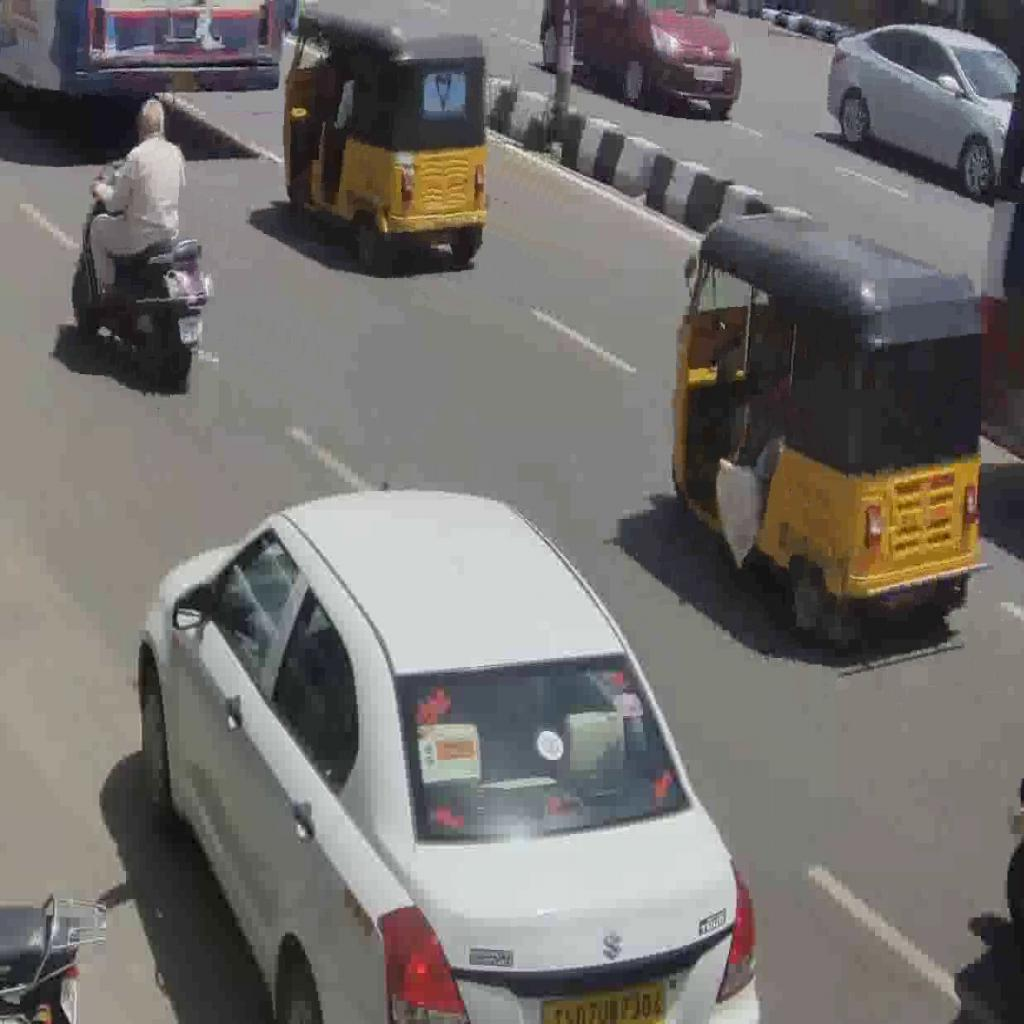bike: (70, 158, 216, 386)
lisc: (178, 312, 204, 345)
no_helmet: (133, 94, 170, 146)
rider: (89, 94, 188, 310)
